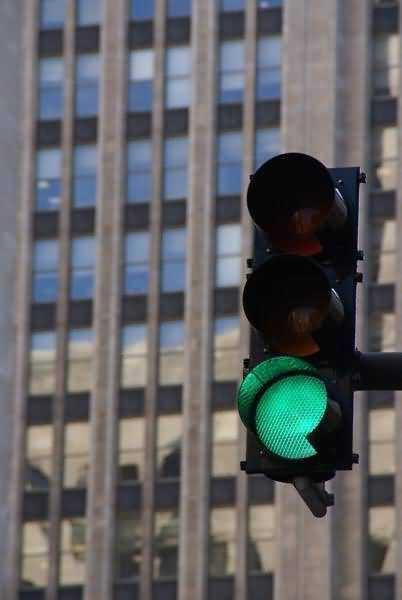green: (242, 163, 359, 478), (246, 361, 339, 471)
